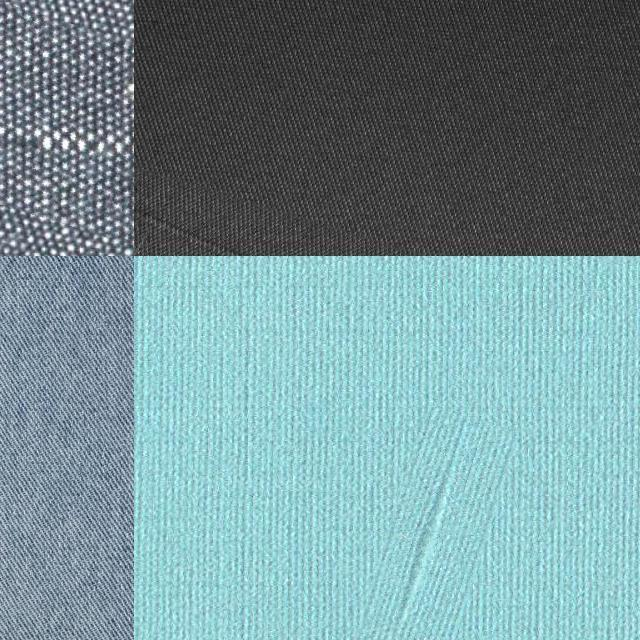Thread_other: (0, 23, 134, 256), (368, 408, 501, 640), (134, 198, 600, 256)
